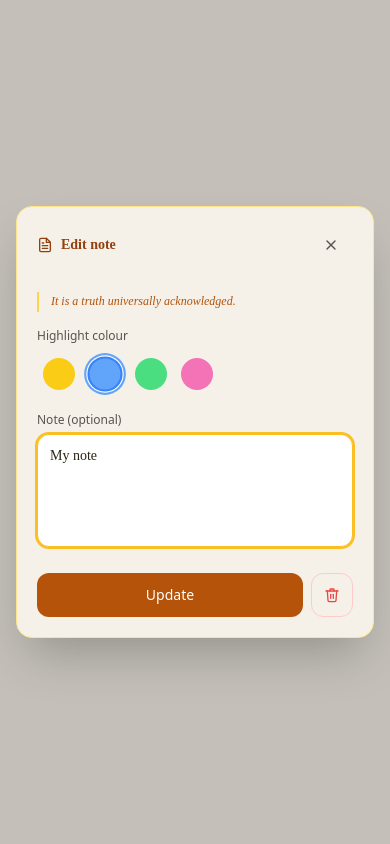
AnnotationToolbar — handleDelete error paths (line 106) › shows error.message when Error is thrown during delete
Click the button named "delete": (332, 595) [311,573,353,617]
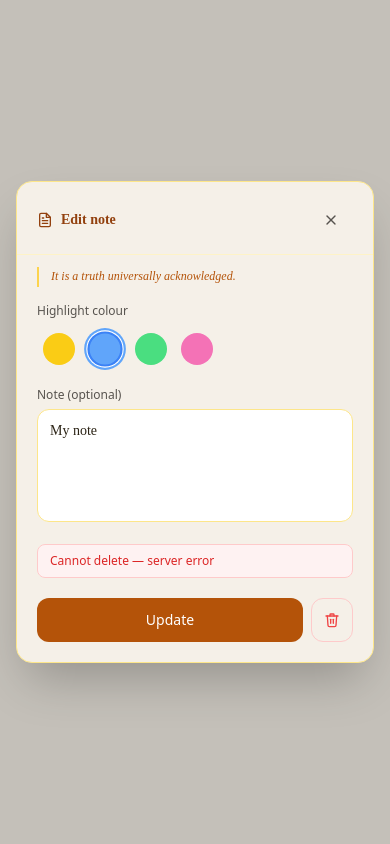
Result: the text "Cannot delete — server error" is shown at [37,544,353,578]
